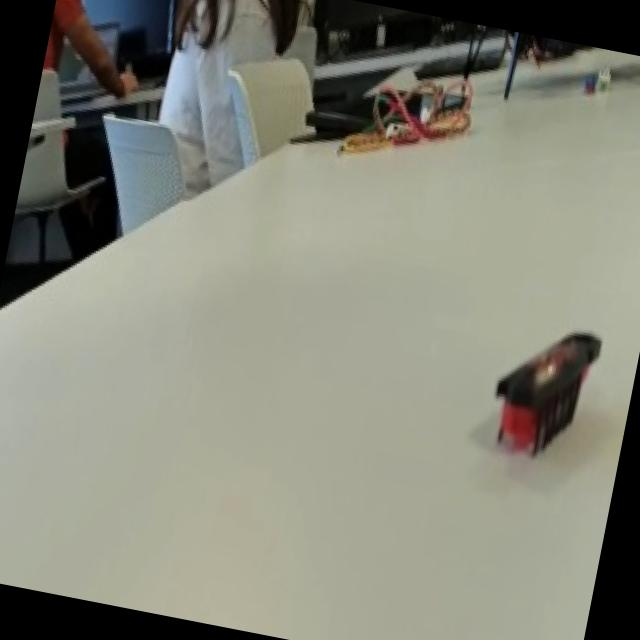2_NanoBug_Negro: (458, 308, 620, 492)
